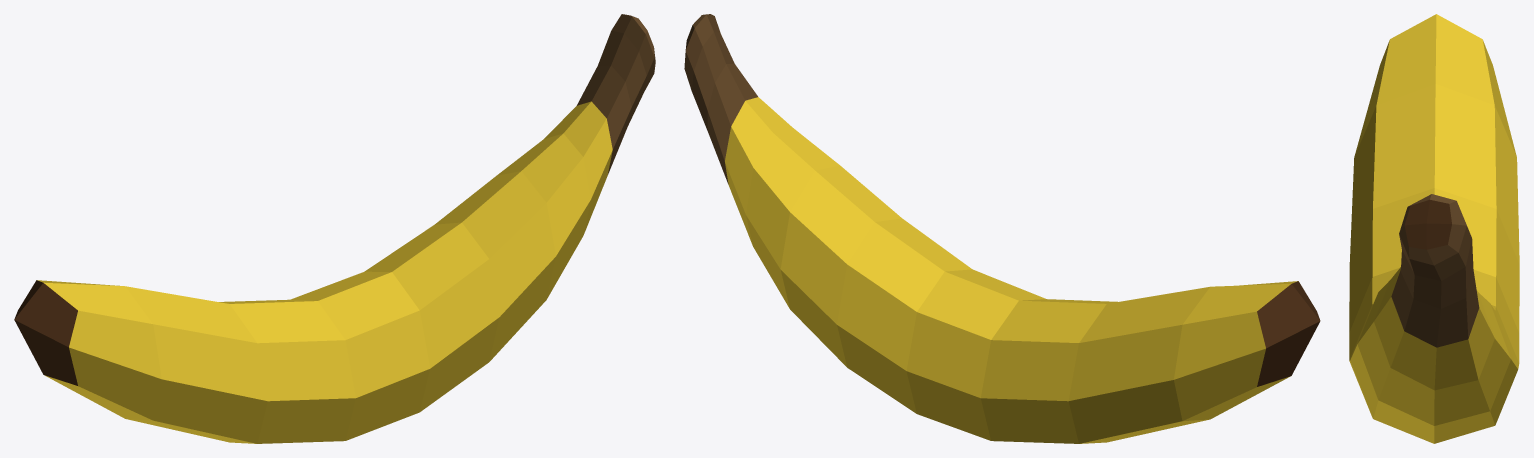
Rendered from banana.glb.
3 renders of one model, left to right at view 1: azimuth 30°, elevation 25°; view 2: azimuth 150°, elevation 25°; view 3: azimuth 270°, elevation 25°, orthographic. The views are drawn at different scales.
Visible parts, largest first — view 1: Cube; view 2: Cube; view 3: Cube.
Part boxes in pixels (box(x1,y1,x2,y2)): Cube: box(14, 14, 655, 443); Cube: box(684, 14, 1320, 443); Cube: box(1349, 14, 1519, 443).
Size of the model in its own units: 8.73 by 4.6 by 1.84.
